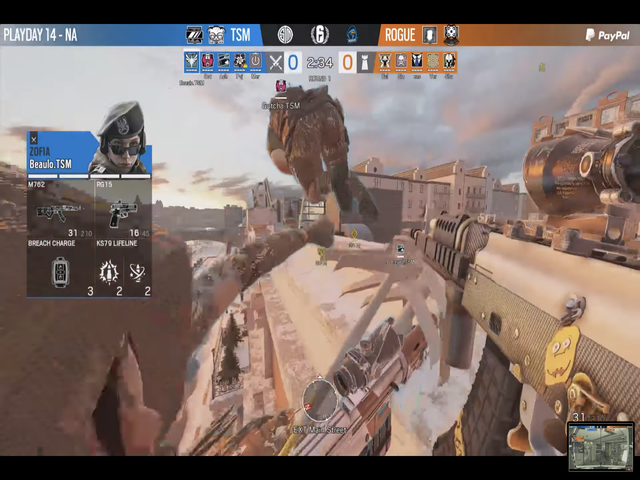0_blue: (283, 51, 303, 70)
